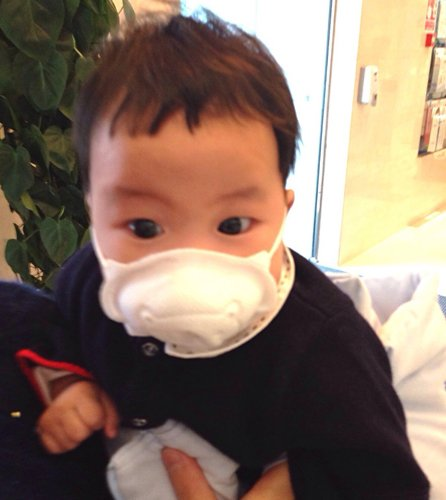face_mask: (97, 107, 289, 357)
